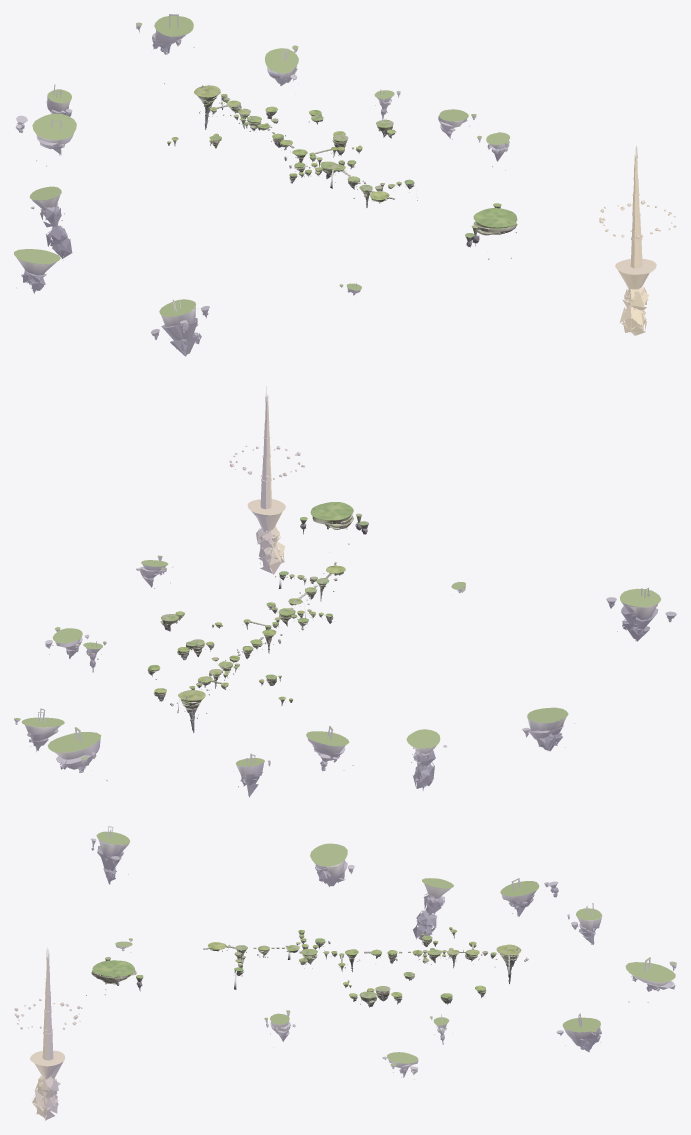
The model's file is world.glb.
The picture shows the model from 3 angles, top to bottom: view 1: azimuth 30°, elevation 25°; view 2: azimuth 150°, elevation 25°; view 3: azimuth 270°, elevation 25°; orthographic projection. The views are drawn at different scales.
Visible parts, largest first — view 1: distant__haze, landmark__spire, islands__grass, islands__rock, distant__l2__grass; view 2: distant__haze, landmark__spire, islands__grass, islands__rock, distant__l2__grass; view 3: distant__haze, landmark__spire, islands__grass, islands__rock, distant__l2__grass.
Part boxes in pixels (x1,y1,x2,y2): distant__haze: [14, 14, 510, 356]; landmark__spire: [615, 145, 656, 335]; islands__grass: [194, 85, 413, 200]; islands__rock: [197, 85, 414, 207]; distant__l2__grass: [465, 203, 516, 237]; distant__haze: [14, 555, 676, 797]; landmark__spire: [247, 386, 285, 574]; islands__grass: [178, 565, 345, 700]; islands__rock: [170, 572, 343, 732]; distant__l2__grass: [300, 502, 368, 525]; distant__haze: [90, 826, 676, 1079]; landmark__spire: [30, 948, 65, 1120]; islands__grass: [208, 930, 521, 985]; islands__rock: [210, 932, 528, 987]; distant__l2__grass: [92, 957, 143, 978].
Size of the model in its own units: 481 by 179 by 604.
